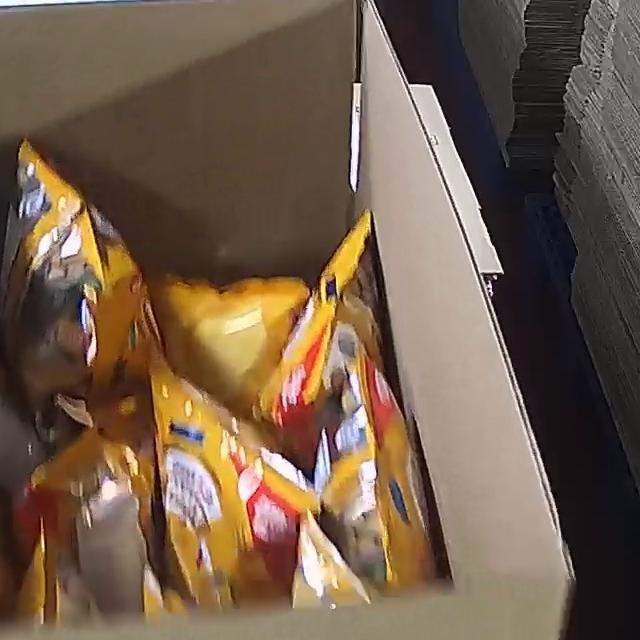cheese: (0, 134, 442, 627)
